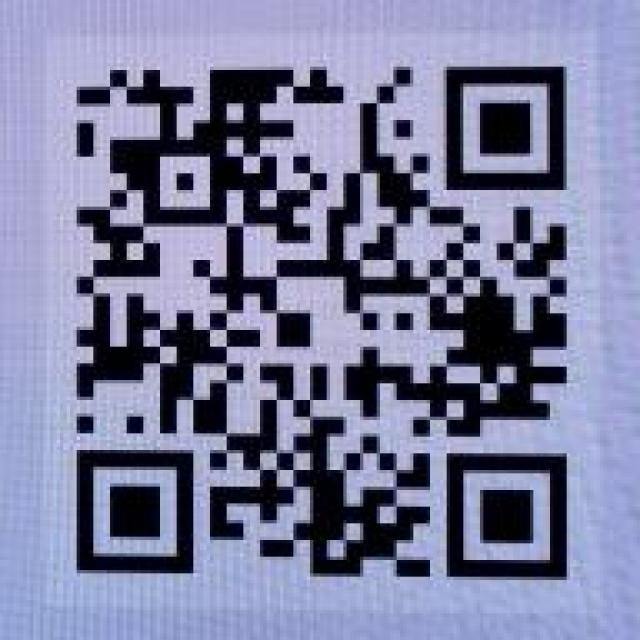QR_CODE: (45, 40, 593, 605)
